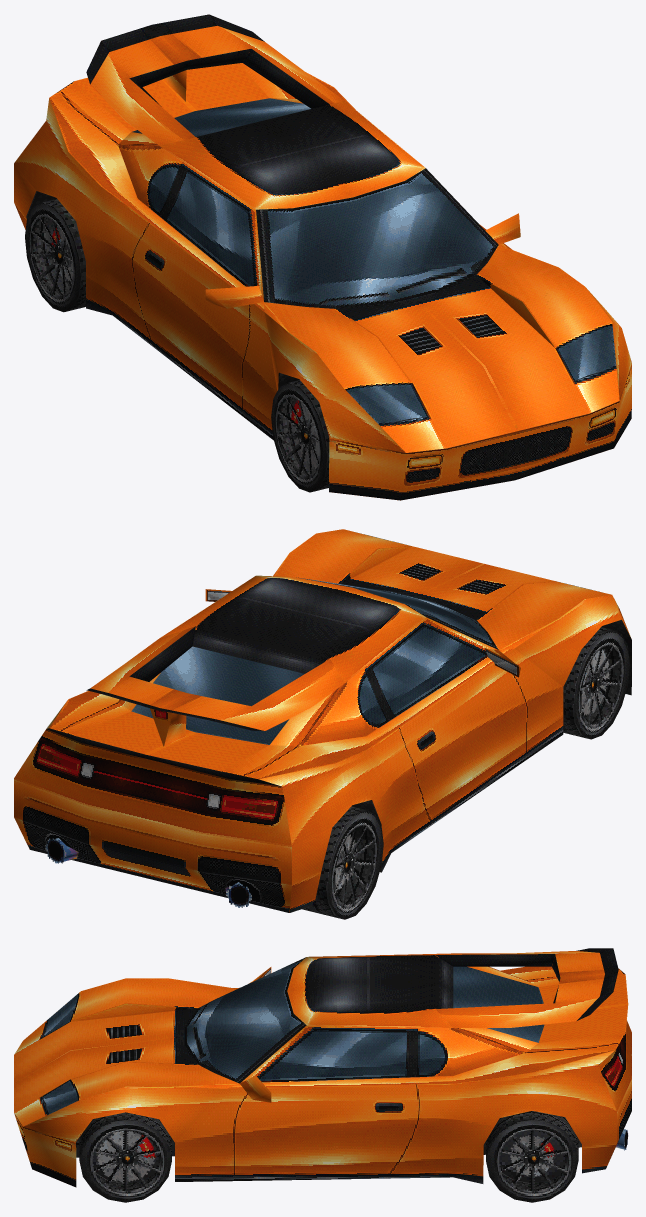
The model's file is pacesetter.glb.
The picture shows the model from 3 angles, top to bottom: view 1: azimuth 30°, elevation 25°; view 2: azimuth 150°, elevation 25°; view 3: azimuth 270°, elevation 25°; orthographic projection. The views are drawn at different scales.
Visible parts, largest first — view 1: body, hood, glass, front bumper, wheel_rr, wheel_fr, rear bumper, rotor_fr; view 2: body, hood, rear bumper, glass, wheel_rr, wheel_fr, exhaust tips, rotor_fr; view 3: body, hood, glass, wheel_rl, wheel_fl, rear bumper, front bumper, rotor_fl, rotor_rl.
Part boxes in pixels (box(x1,y1,x2,y2)): body: box(14, 14, 520, 440); hood: box(264, 245, 631, 452); glass: box(132, 98, 498, 308); front bumper: box(329, 364, 631, 500); wheel_rr: box(25, 199, 85, 312); wheel_fr: box(271, 380, 329, 492); rear bumper: box(14, 164, 50, 229); rotor_fr: box(291, 400, 319, 472); body: box(14, 575, 563, 871); hood: box(273, 529, 631, 686); rear bumper: box(14, 778, 331, 912); glass: box(131, 577, 498, 744); wheel_rr: box(302, 806, 383, 919); wheel_fr: box(563, 627, 629, 739); exhaust tips: box(45, 838, 251, 907); rotor_fr: box(581, 649, 610, 715); body: box(175, 948, 631, 1183); hood: box(14, 978, 239, 1142); glass: box(184, 957, 544, 1083); wheel_rl: box(486, 1111, 578, 1202); wheel_fl: box(79, 1112, 171, 1202); rear bumper: box(565, 1079, 631, 1173); front bumper: box(14, 1113, 76, 1187); rotor_fl: box(93, 1131, 156, 1183); rotor_rl: box(510, 1135, 555, 1176).
Bounding box in the file's own units: 2.21 × 1.4 × 4.57.
1 material, 1 textured.
